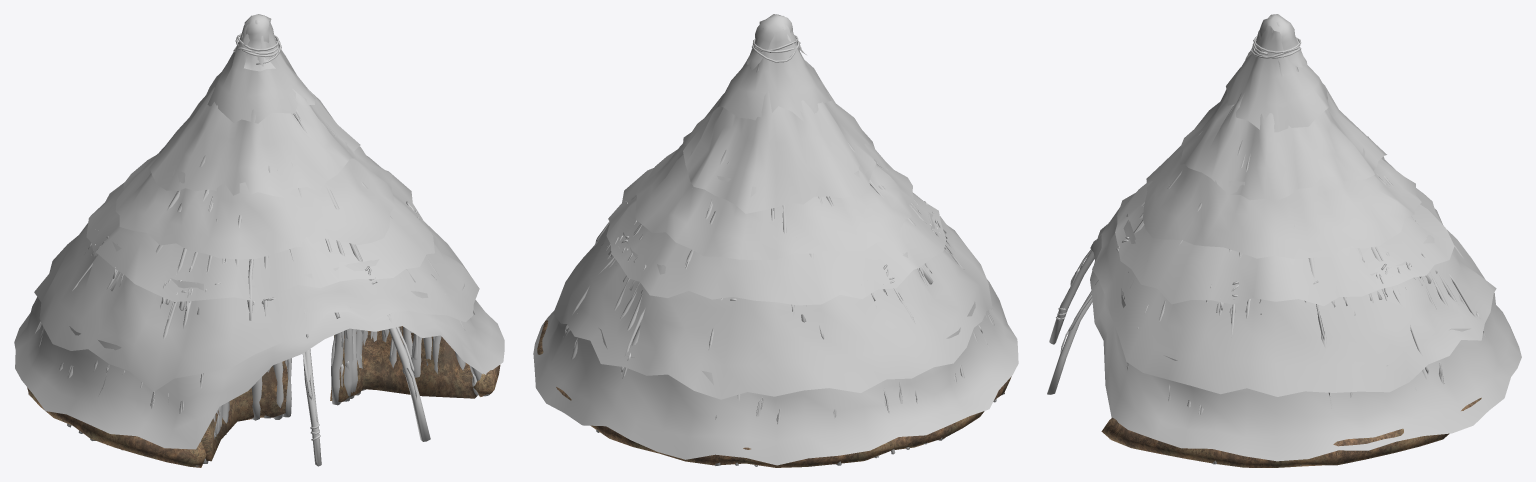
File: midpoly_african_hut_006.obj
3 views of the same model, side by side, from view 1: azimuth 30°, elevation 25°; view 2: azimuth 150°, elevation 25°; view 3: azimuth 270°, elevation 25° (orthographic).
Visible parts, largest first — view 1: midpoly_african_hut_006; view 2: midpoly_african_hut_006; view 3: midpoly_african_hut_006.
Part boxes in pixels (x1,y1,x2,y2): midpoly_african_hut_006: (14,14,504,467); midpoly_african_hut_006: (533,14,1018,467); midpoly_african_hut_006: (1047,14,1521,467).
Bounding box in the file's own units: 4.23 × 3.39 × 4.09.
